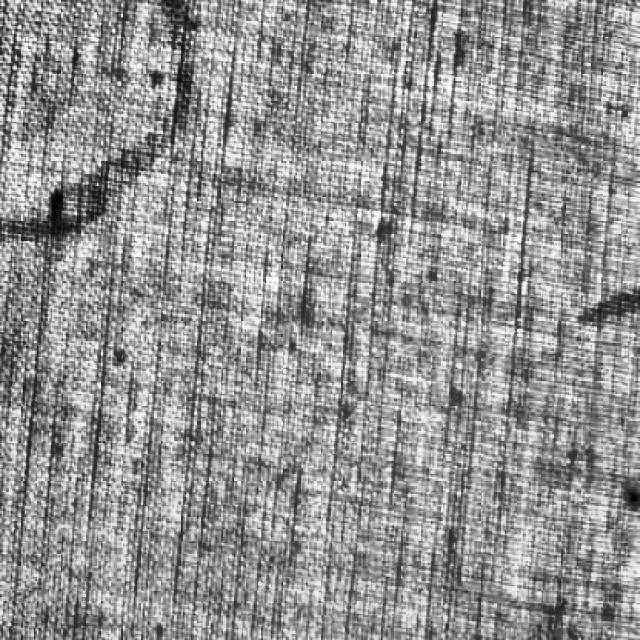oil_spot: (0, 2, 207, 256)
